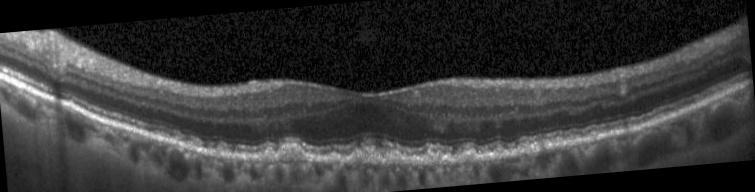retinal_drusen: (346, 143, 411, 163), (277, 141, 305, 162), (422, 148, 453, 164), (515, 140, 534, 157), (458, 147, 478, 161), (322, 150, 343, 163), (261, 146, 278, 162), (565, 133, 581, 146), (491, 145, 508, 156), (536, 138, 548, 153), (586, 130, 599, 142), (552, 135, 563, 148)
